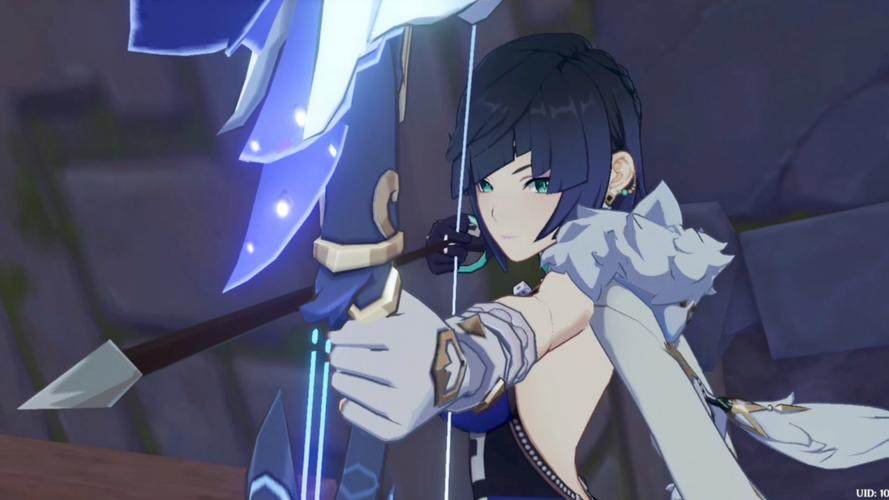夜兰: (325, 30, 668, 500)
